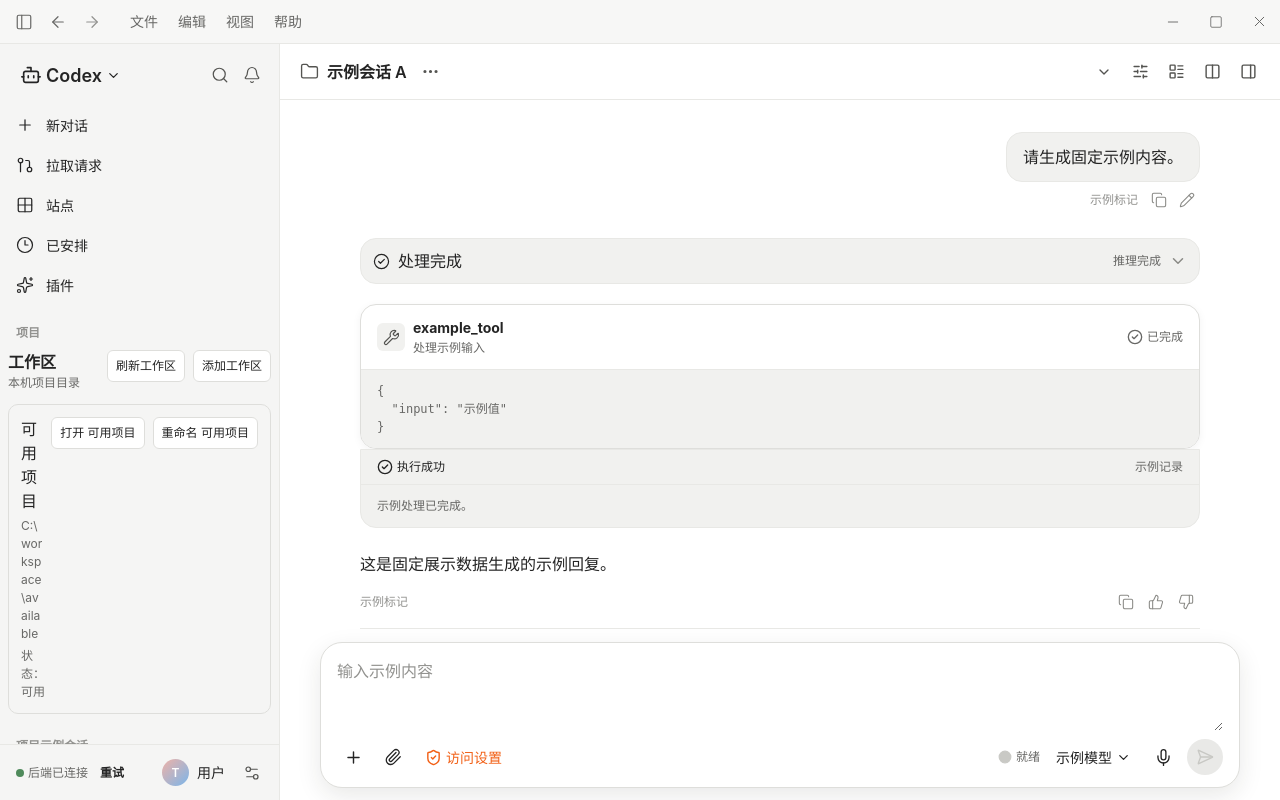
Test: M03 regression › projects duplicate errors safely and does not restore the active Workspace after remount
The width and height of the screenshot is (1280, 800).
expect the button "打开 可用项目" is shown: met, box [51,417,145,449]
Click the button "添加工作区" at (232, 366), box [193,350,271,382]
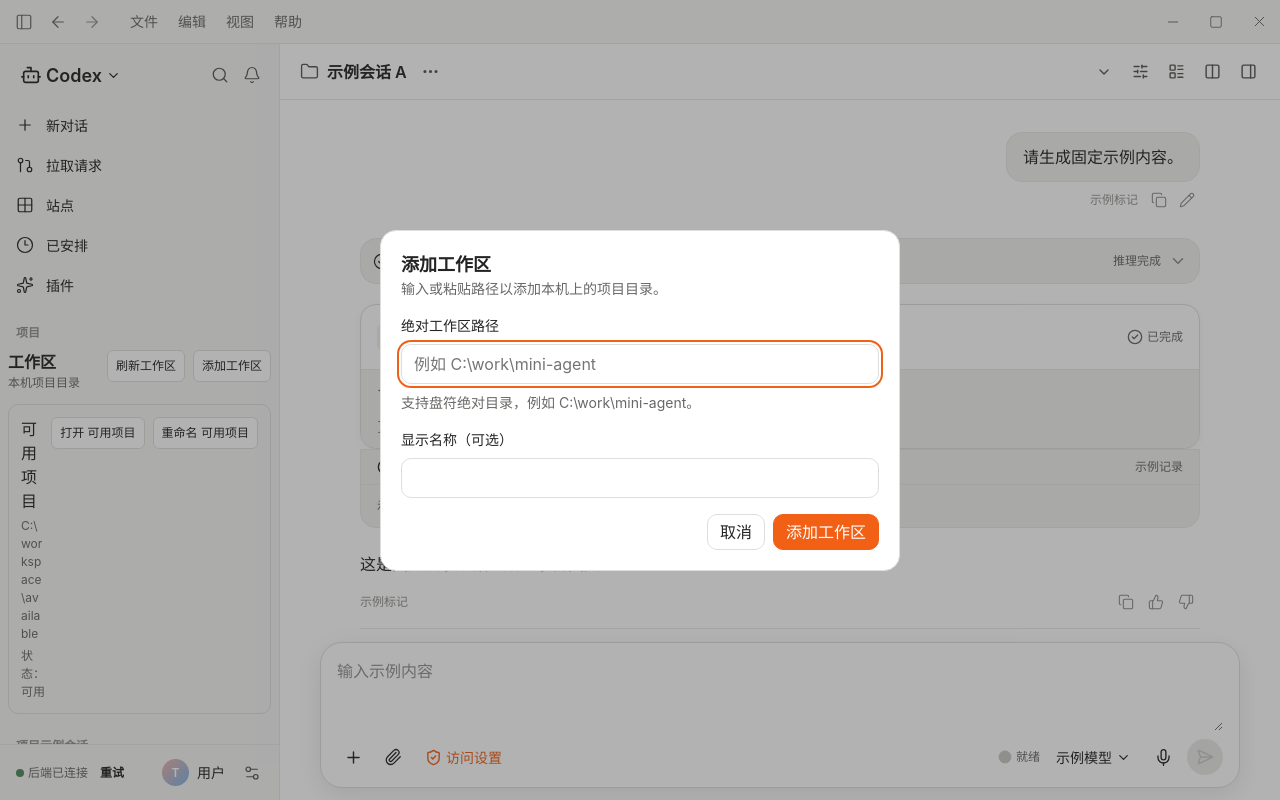
Type "C:\\workspace\\available" into the field labelled "绝对工作区路径" at (640, 364), box [401,344,879,384]
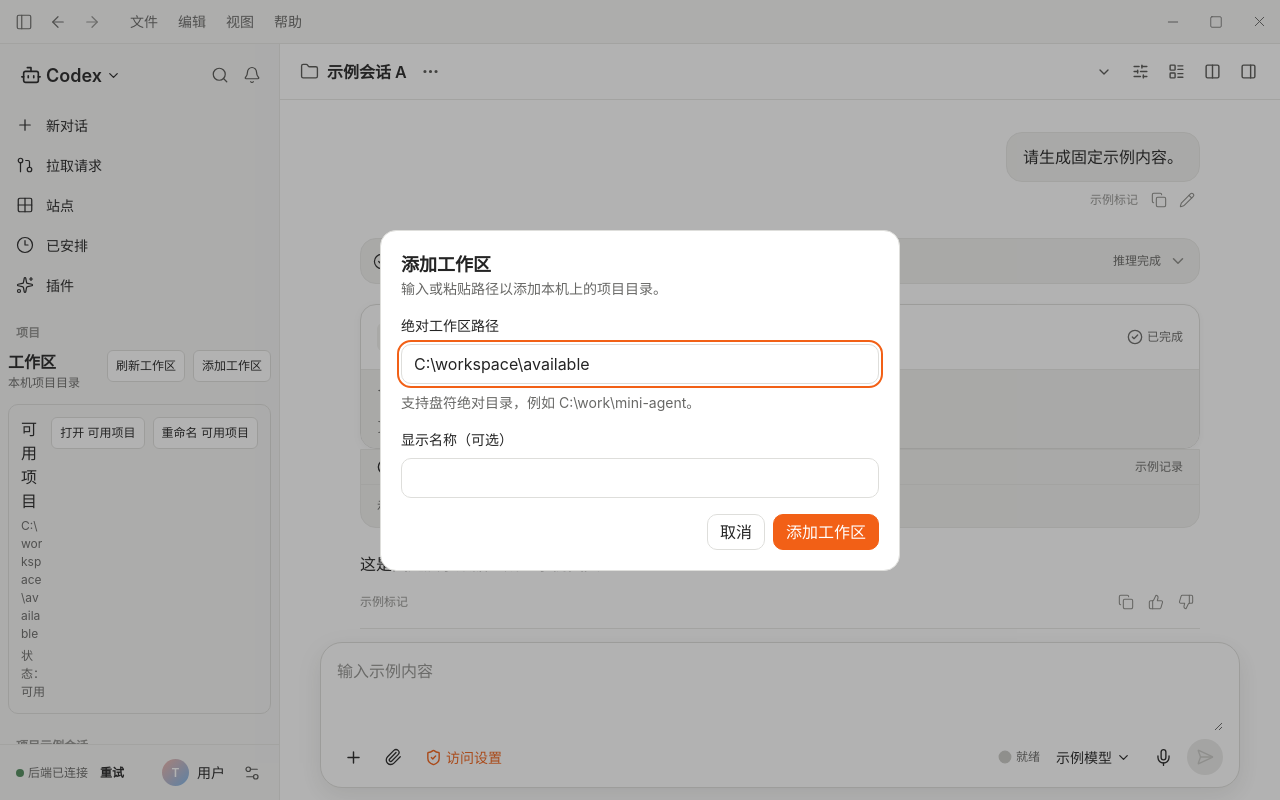
Click the button "添加工作区" at (826, 532), box [773,514,879,550]
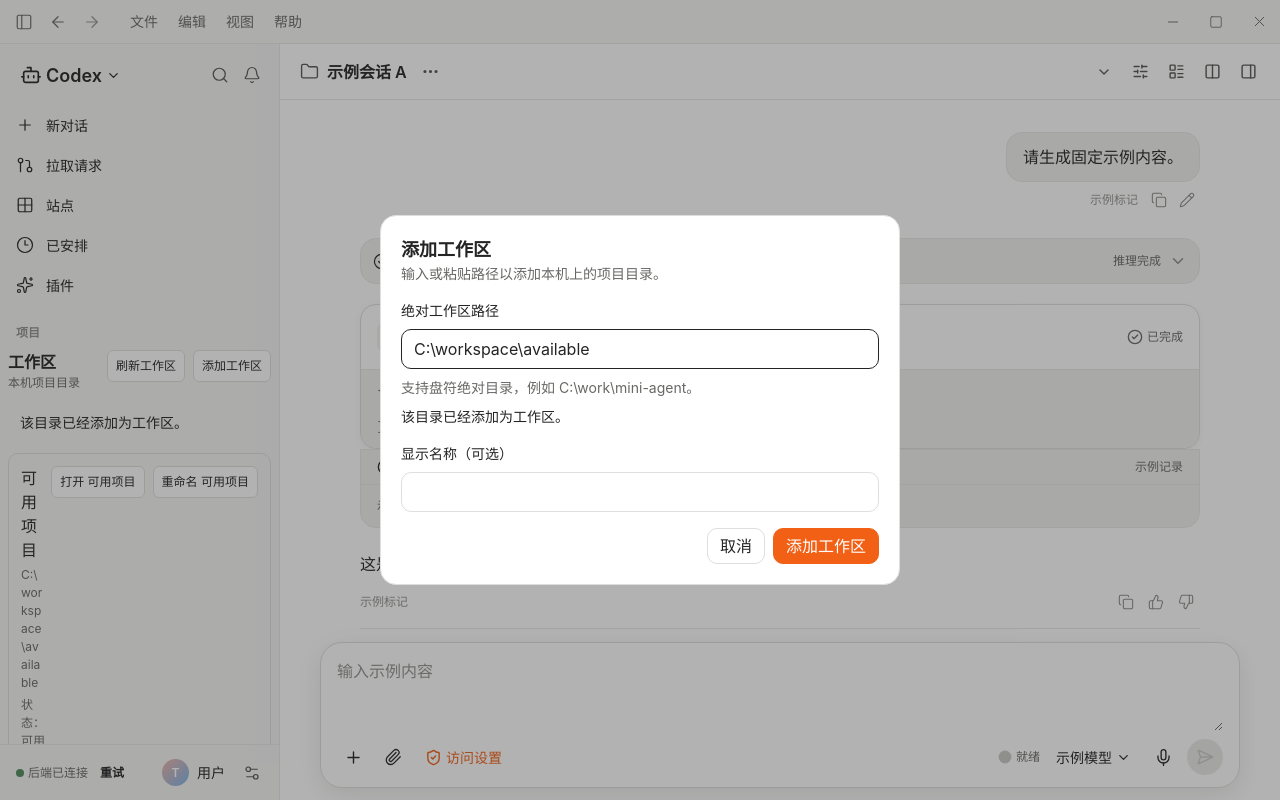
expect the text "该目录已经添加为工作区。" is shown: met, box [401,408,569,425]
